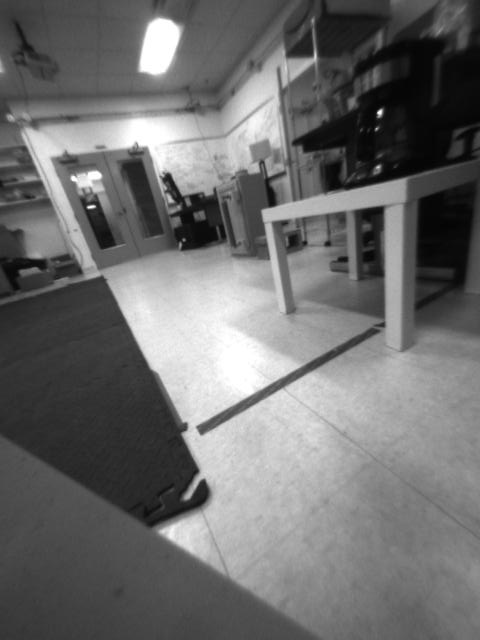coffee_pot: (345, 35, 447, 184)
